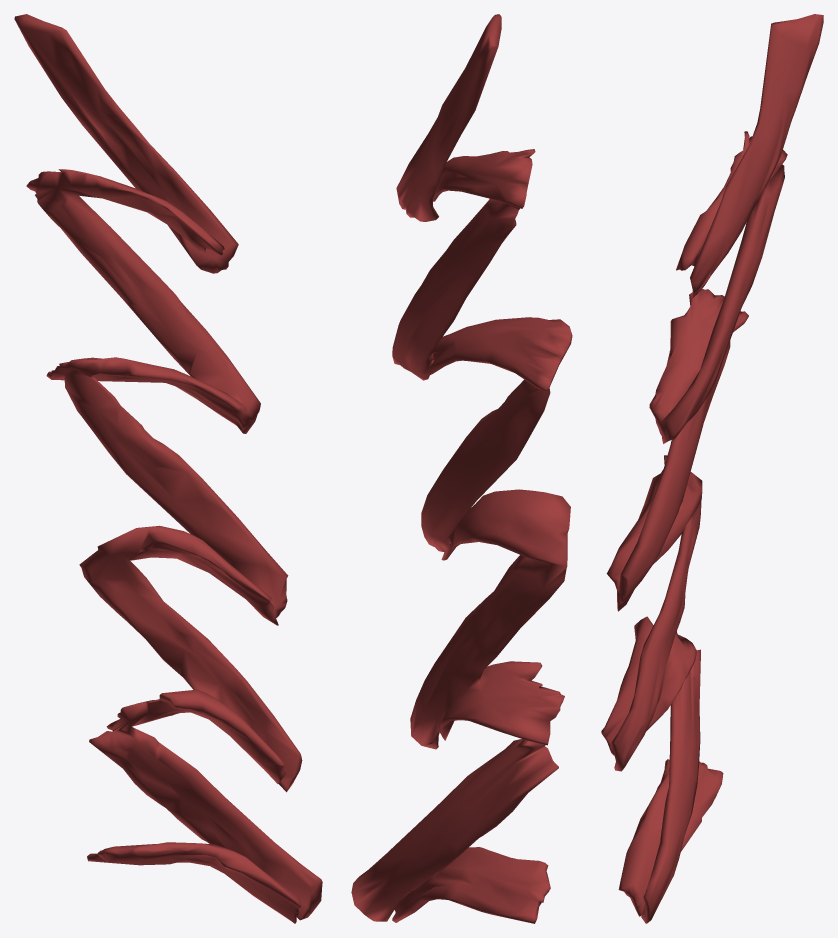
Rendered from multifidus-lumborum-muscle-l.glb.
The picture shows the model from 3 angles, left to right: view 1: azimuth 30°, elevation 25°; view 2: azimuth 150°, elevation 25°; view 3: azimuth 270°, elevation 25°; orthographic projection. The views are drawn at different scales.
Parts seen in each view (by area): view 1: Multifidus lumborum muscle.l; view 2: Multifidus lumborum muscle.l; view 3: Multifidus lumborum muscle.l.
Boxes of the visible parts, x1,y1,x2,y2 form: Multifidus lumborum muscle.l: (14, 14, 322, 923); Multifidus lumborum muscle.l: (351, 14, 572, 923); Multifidus lumborum muscle.l: (601, 14, 823, 923).
Size of the model in its own units: 0.0426 by 0.1615 by 0.0396.
